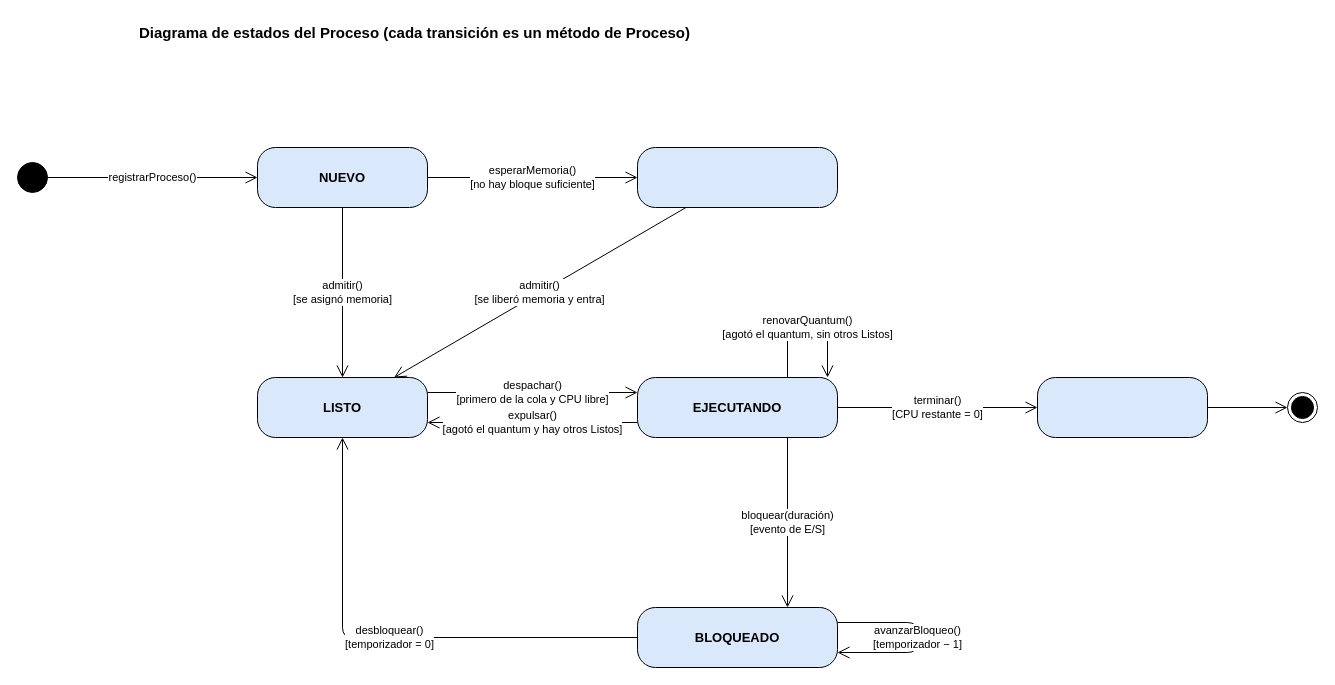
Some shapes in this 1335 by 685 pixel diagram are drawn without their labels. Each missing label, with the centre of its shape:
ESPERANDO_MEMORIA: the point at 737,177
TERMINADO: the point at 1122,407
